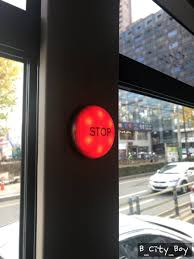bell: (68, 100, 118, 162)
